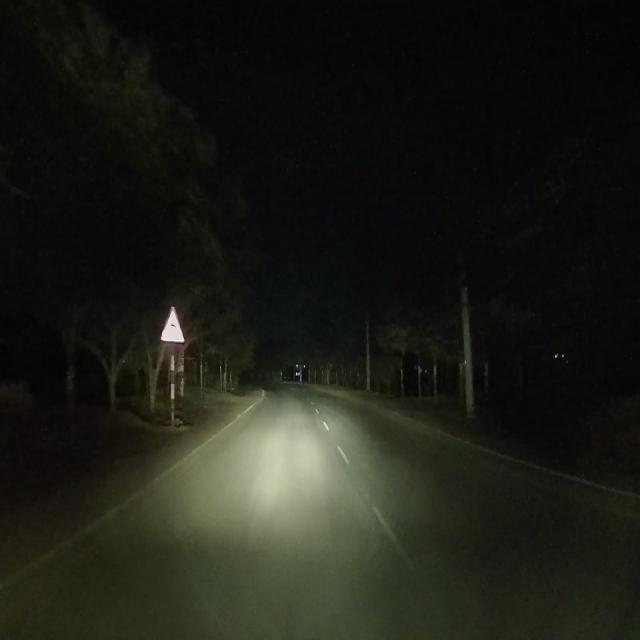left-hand-curve: (161, 308, 185, 347)
